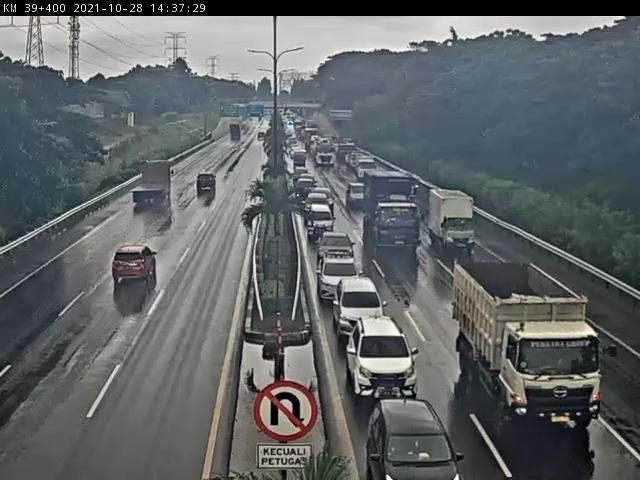car: (366, 400, 466, 480), (347, 318, 413, 397), (334, 276, 385, 340), (319, 258, 365, 305), (113, 246, 158, 289), (318, 236, 356, 271), (305, 204, 334, 240), (194, 172, 220, 194)
truck: (446, 257, 620, 434), (363, 170, 424, 257), (428, 188, 478, 254), (133, 162, 174, 213)
